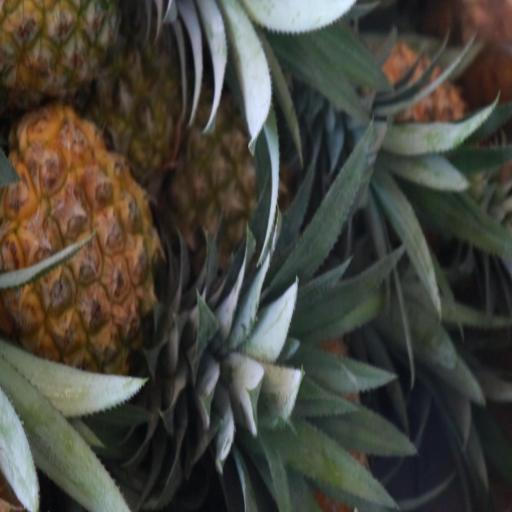Pineapple - v8 v1: (0, 107, 174, 375), (164, 88, 281, 270)
